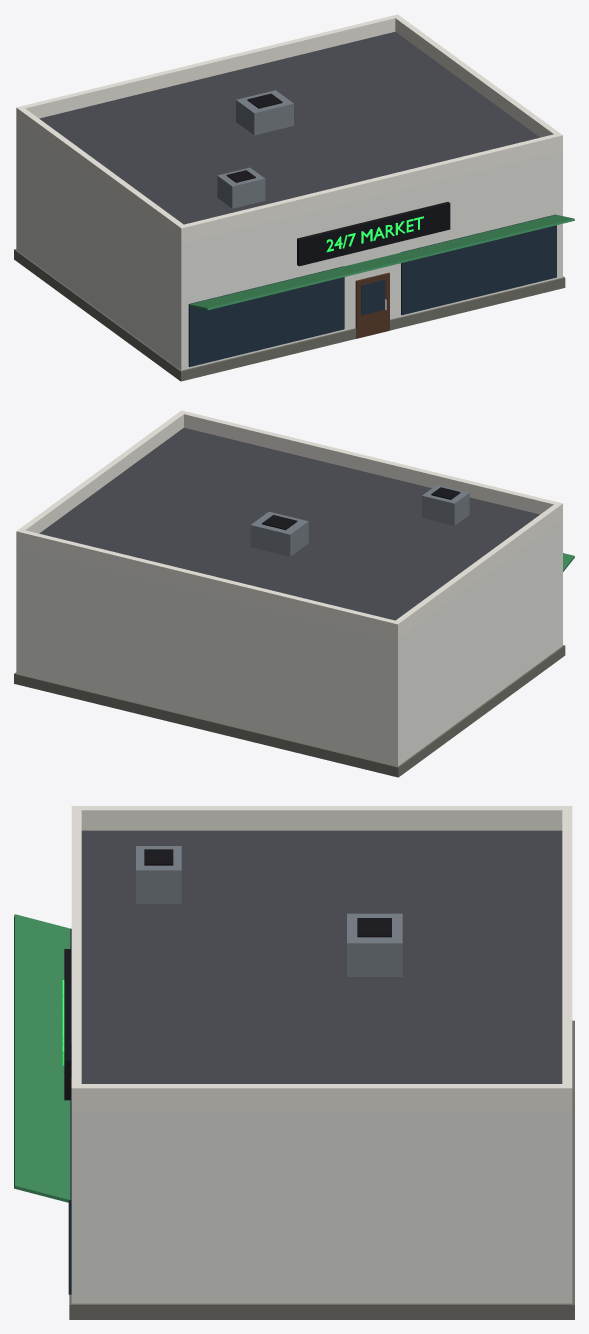
File: shop_market.glb
The picture shows the model from 3 angles, top to bottom: view 1: azimuth 30°, elevation 25°; view 2: azimuth 150°, elevation 25°; view 3: azimuth 270°, elevation 25°; orthographic projection. The views are drawn at different scales.
Visible parts, largest first — view 1: shop_market_Body, shop_market_SignBoard, shop_market_Sign; view 2: shop_market_Body; view 3: shop_market_Body, shop_market_SignBoard.
Boxes of the visible parts, x1,y1,x2,y2 form: shop_market_Body: [14, 14, 574, 381]; shop_market_SignBoard: [297, 202, 450, 266]; shop_market_Sign: [326, 216, 423, 252]; shop_market_Body: [14, 410, 574, 777]; shop_market_Body: [14, 806, 574, 1319]; shop_market_SignBoard: [64, 949, 70, 1100].
Size of the model in its own units: 16.12 by 6.49 by 13.44.
